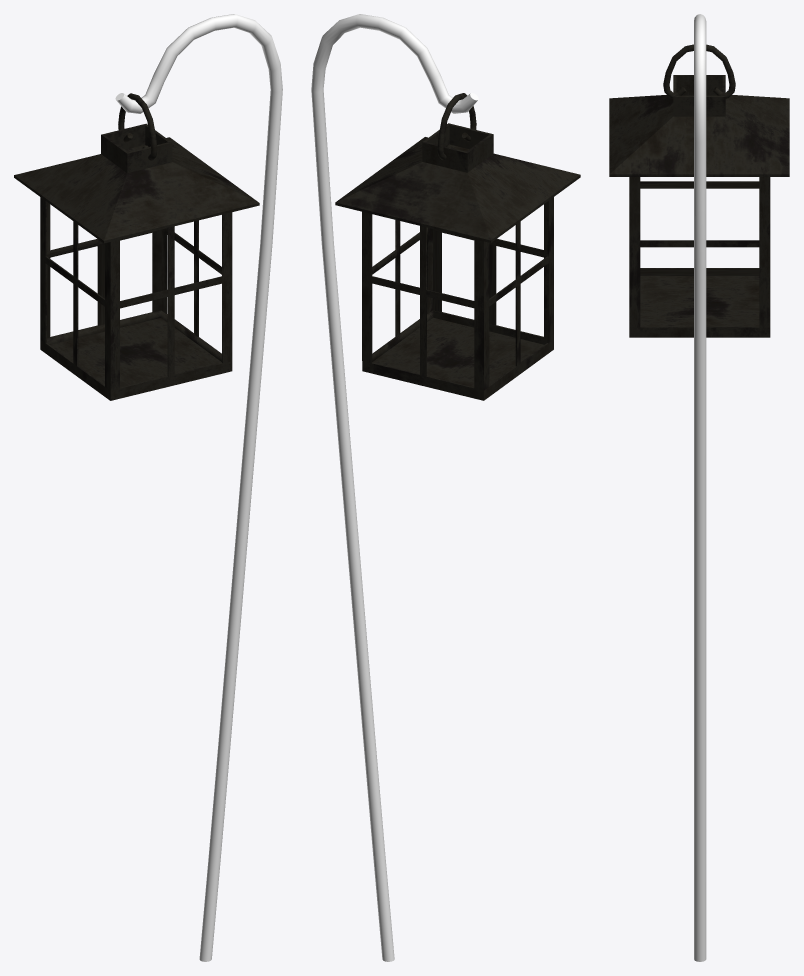
The model's file is Lantern.fbx.
3 views of the same model, side by side, from view 1: azimuth 30°, elevation 25°; view 2: azimuth 150°, elevation 25°; view 3: azimuth 270°, elevation 25° (orthographic).
Parts seen in each view (by area): view 1: Lantern, LanternStick; view 2: Lantern, LanternStick; view 3: Lantern, LanternStick.
Part boxes in pixels (x1,y1,x2,y2): Lantern: (14, 93, 259, 400); LanternStick: (115, 14, 282, 961); Lantern: (335, 93, 580, 400); LanternStick: (311, 14, 478, 961); Lantern: (609, 44, 789, 337); LanternStick: (694, 14, 706, 961).
Bounding box in the file's own units: 0.2434 × 0.9788 × 0.1696.
